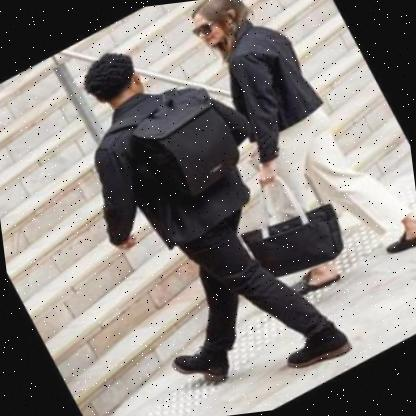bag: (230, 158, 352, 286)
person: (55, 18, 350, 394), (175, 0, 416, 310)
